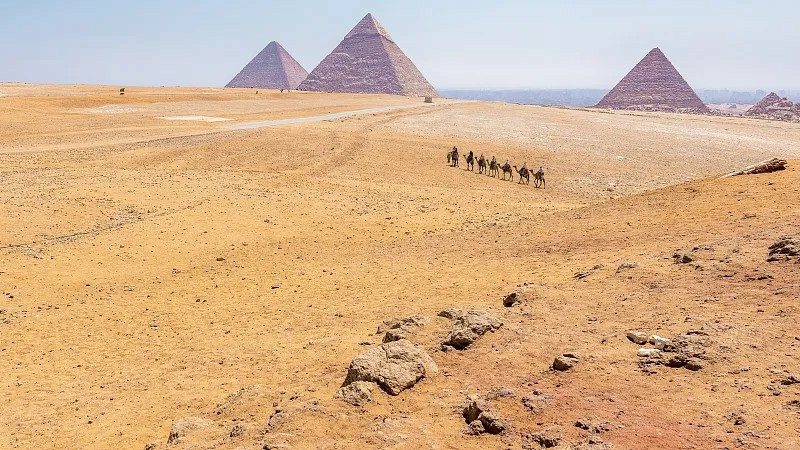Pyramid: (298, 12, 441, 97), (595, 49, 710, 110), (223, 41, 309, 91)
